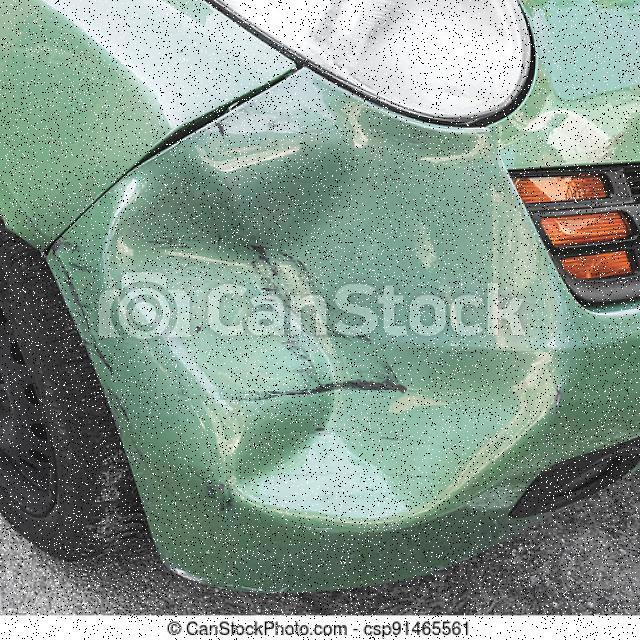front-bumper-dent: (61, 70, 639, 600)
